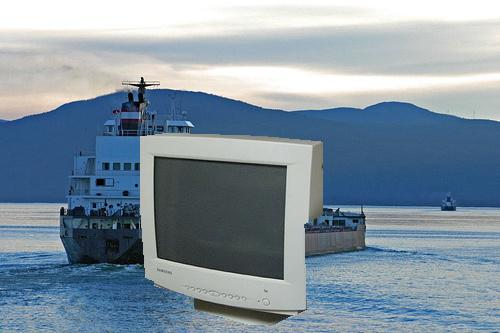tampered: (141, 134, 323, 325)
